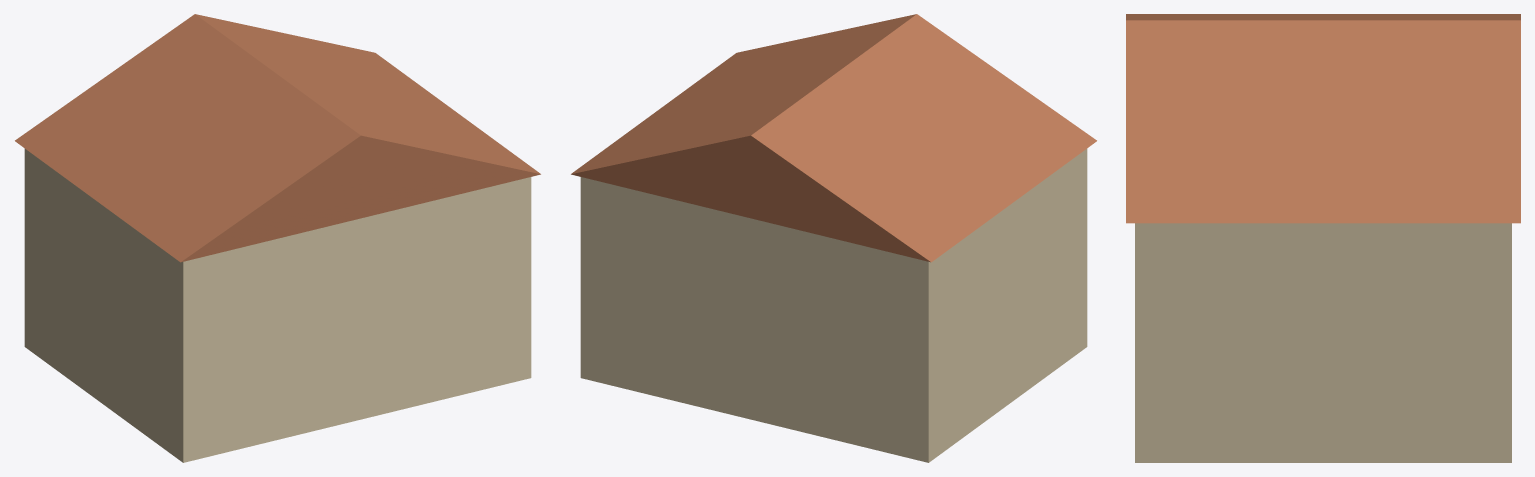
Rendered from block_tavern.glb.
3 renders of one model, left to right at view 1: azimuth 30°, elevation 25°; view 2: azimuth 150°, elevation 25°; view 3: azimuth 270°, elevation 25°, orthographic. The views are drawn at different scales.
Visible parts, largest first — view 1: Body.005, Roof.005; view 2: Body.005, Roof.005; view 3: Body.005, Roof.005.
Part boxes in pixels (x1,y1,x2,y2): Body.005: (24, 148, 531, 462); Roof.005: (15, 14, 540, 262); Body.005: (580, 148, 1087, 462); Roof.005: (571, 14, 1096, 262); Body.005: (1135, 223, 1511, 462); Roof.005: (1126, 14, 1520, 223).
Bounding box in the file's own units: 19.7 × 15 × 15.7.
